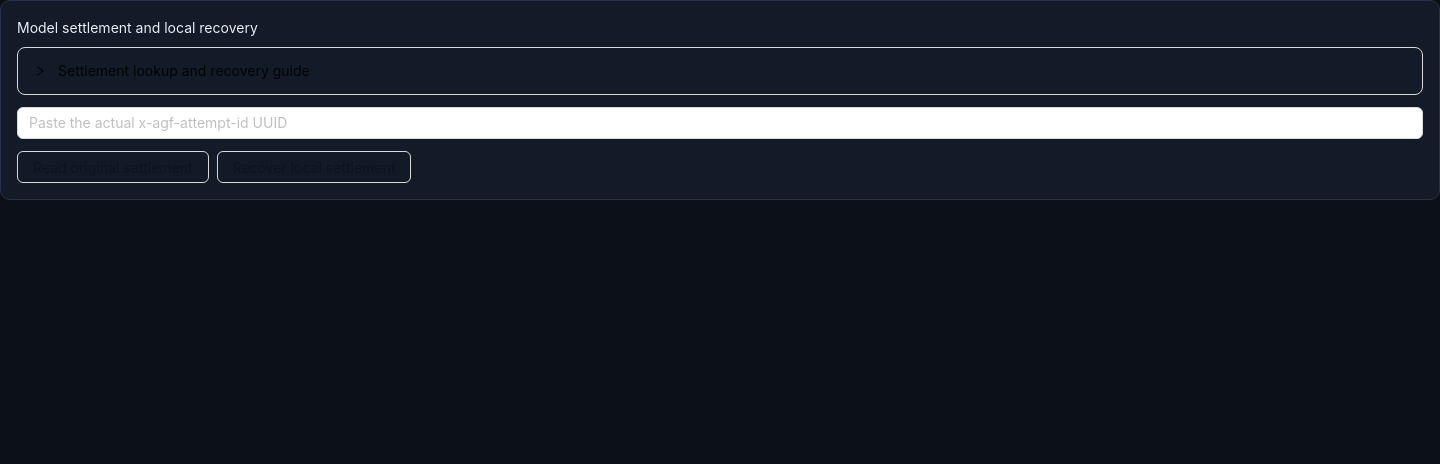
reads the original ID and requires a separate confirmation before an empty-body local recovery
Type "957a5c39-28a3-4a45-a830-6855f4763730" into the field named "Original model attempt ID" at (720, 123), box top-left (17, 107), bottom-right (1423, 139)
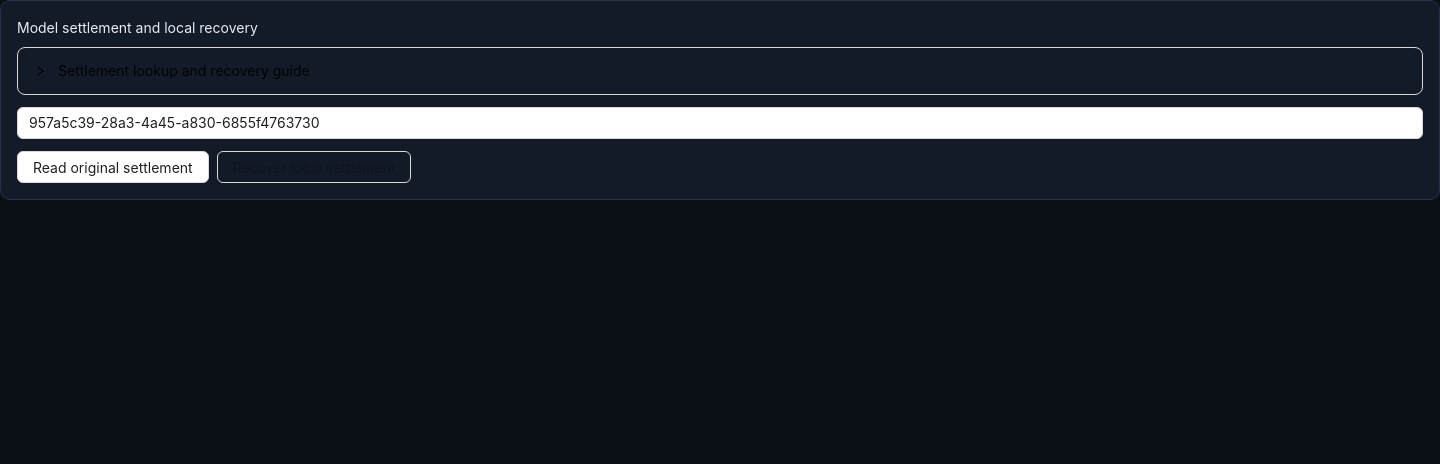
Click the button "Read original settlement" at (113, 167), box top-left (17, 151), bottom-right (209, 183)
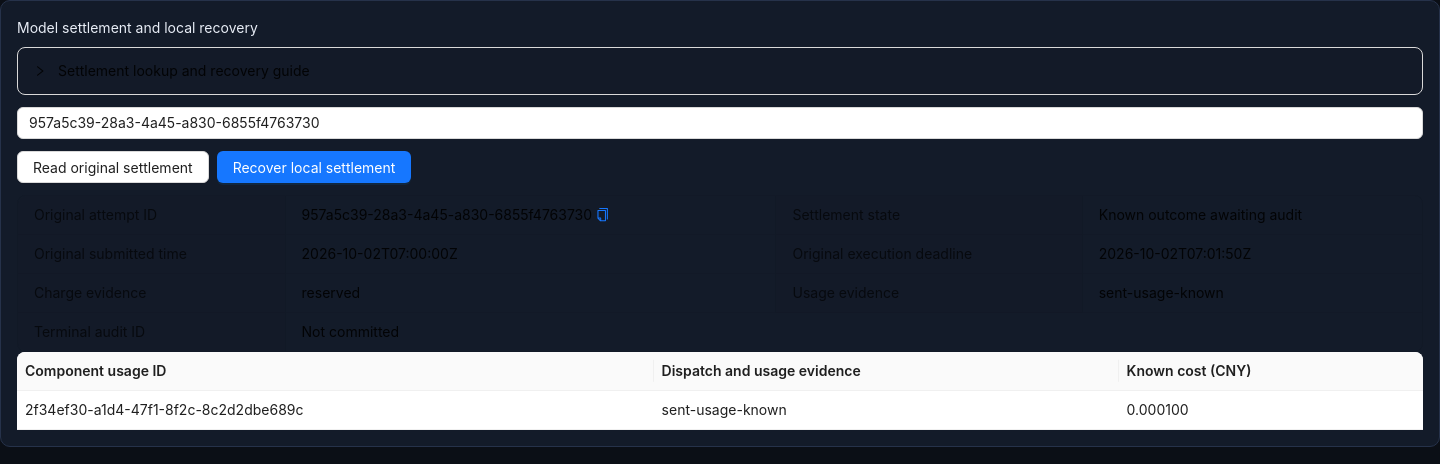
Expected: the text "Known outcome awaiting audit" is shown, top-left (1099, 206), bottom-right (1302, 223)
Click the button "Recover local settlement" at (314, 167), box top-left (217, 151), bottom-right (411, 183)
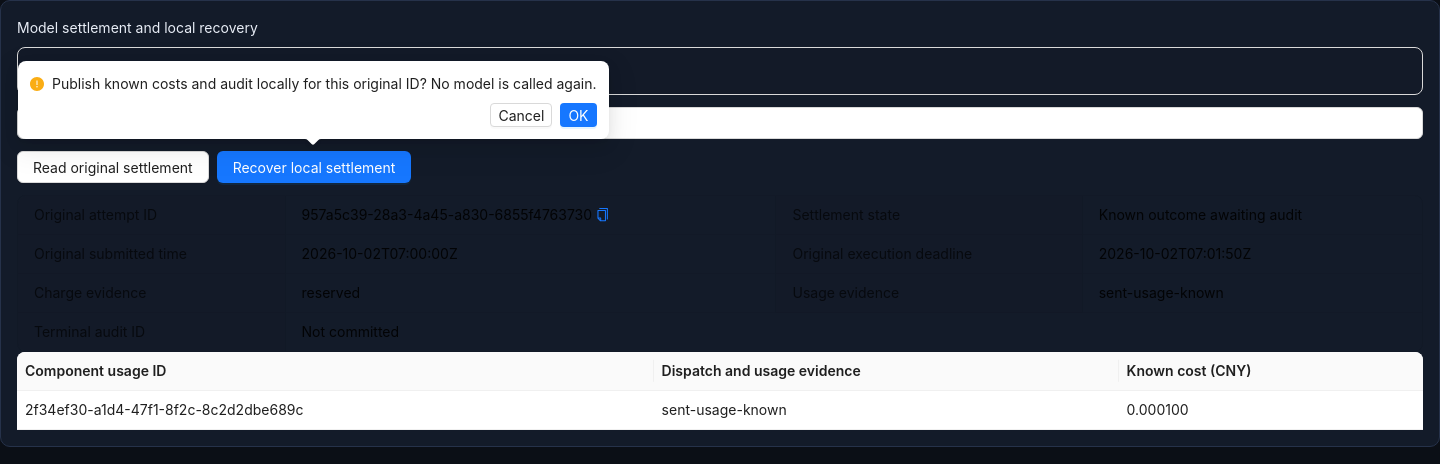
Now the text "Publish known costs and audit locally for this original ID? No model is called again." is shown, box top-left (52, 75), bottom-right (596, 92)
Click the button "OK" at (578, 115), box top-left (560, 103), bottom-right (596, 127)
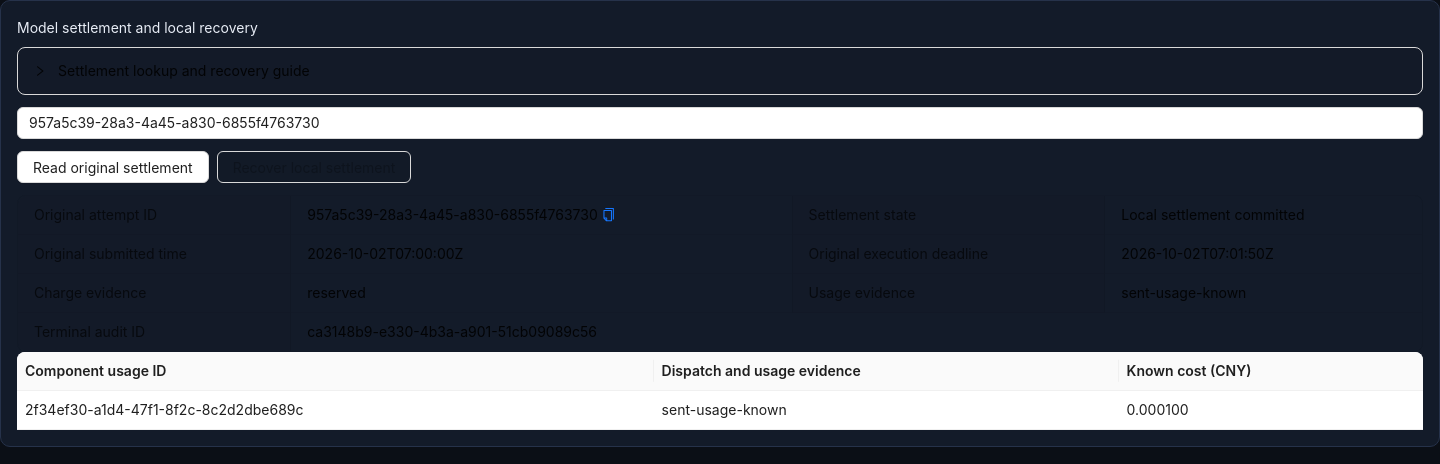
Now the text "Local settlement committed" is shown, box top-left (1121, 206), bottom-right (1304, 223)
Now the button "Recover local settlement" is disabled, box top-left (217, 151), bottom-right (411, 183)
